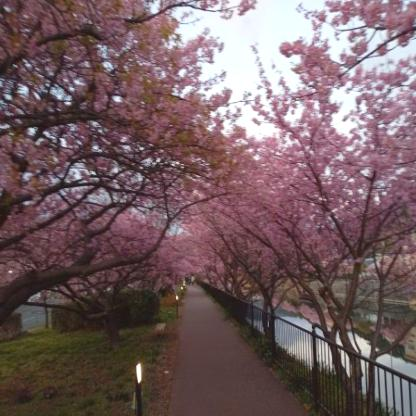KawazuSakura: (0, 0, 416, 286)
